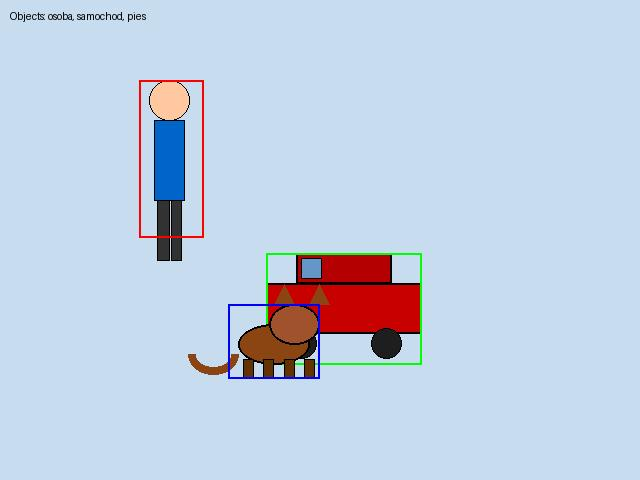osoba: (139, 80, 203, 237)
pies: (228, 304, 319, 378)
samochod: (266, 253, 421, 364)
